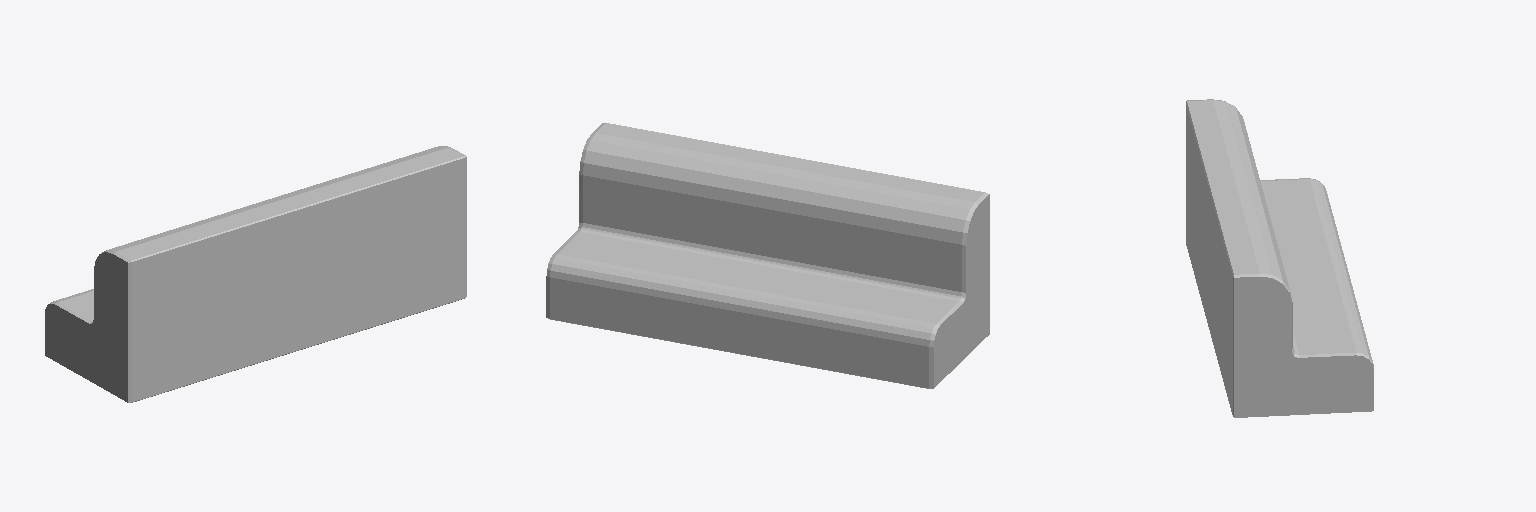
Rendered from seat_19.obj.
3 renders of one model, left to right at view 1: azimuth 30°, elevation 25°; view 2: azimuth 150°, elevation 25°; view 3: azimuth 270°, elevation 25°, orthographic.
Visible parts, largest first — view 1: Cadeira1.018_Cube.019; view 2: Cadeira1.018_Cube.019; view 3: Cadeira1.018_Cube.019.
Part boxes in pixels (x1,y1,x2,y2): Cadeira1.018_Cube.019: (45, 146, 466, 402); Cadeira1.018_Cube.019: (546, 123, 989, 388); Cadeira1.018_Cube.019: (1186, 99, 1373, 417).
Size of the model in its own units: 3.33 by 1.2 by 1.44.